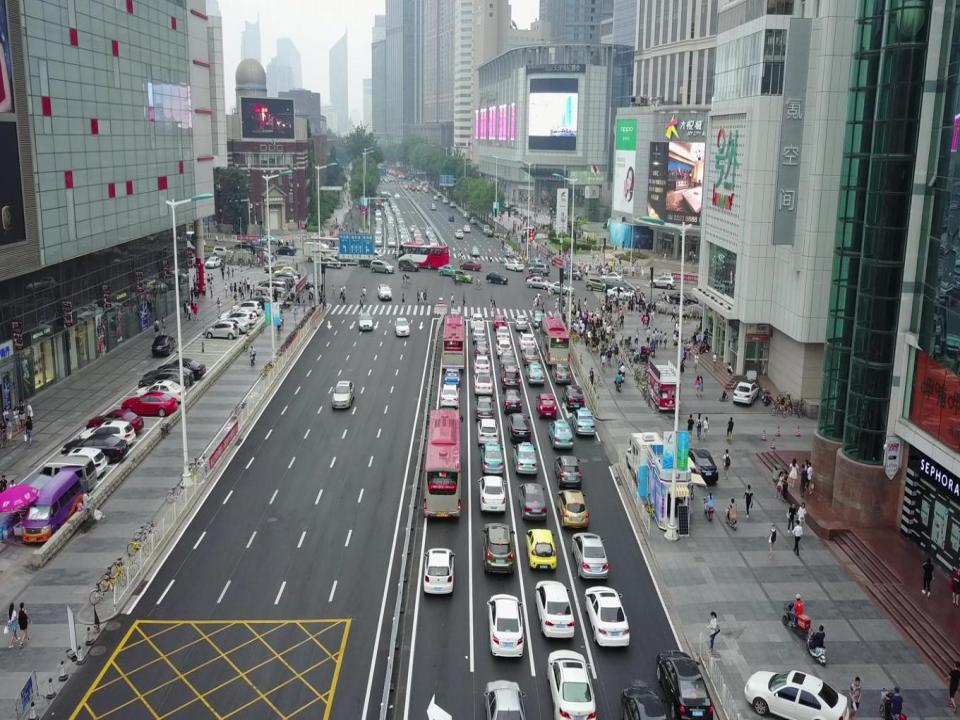bus: (423, 409, 461, 518), (649, 360, 682, 410), (538, 315, 570, 365), (398, 242, 449, 269), (442, 313, 464, 373), (167, 230, 204, 252)
car: (744, 670, 848, 720), (656, 648, 714, 720), (547, 648, 597, 720), (584, 586, 629, 646), (486, 593, 524, 656), (535, 581, 575, 637), (61, 432, 130, 464), (483, 679, 525, 720), (54, 448, 107, 480), (572, 533, 609, 578), (482, 523, 515, 573), (620, 686, 668, 720), (86, 408, 144, 436), (120, 390, 178, 415), (423, 548, 455, 593), (79, 420, 136, 445), (682, 447, 718, 484), (135, 379, 186, 404), (141, 363, 194, 387), (138, 368, 190, 392), (526, 529, 557, 569), (557, 489, 588, 527), (157, 358, 205, 381), (518, 483, 547, 519), (478, 475, 506, 511), (512, 441, 538, 476), (554, 456, 582, 488), (479, 440, 504, 472), (547, 419, 573, 449), (732, 379, 760, 406), (507, 412, 531, 442), (218, 308, 254, 328), (219, 308, 257, 326), (331, 380, 355, 408), (476, 418, 499, 447), (257, 276, 289, 296), (204, 321, 239, 339), (572, 407, 594, 435), (500, 363, 521, 391), (216, 316, 248, 334), (474, 395, 495, 420), (151, 334, 176, 355), (536, 392, 556, 418), (440, 384, 460, 409), (231, 300, 262, 316), (255, 282, 286, 298), (563, 385, 585, 407), (501, 389, 522, 412), (666, 291, 698, 306), (525, 361, 544, 385), (473, 373, 493, 395), (552, 361, 571, 384), (606, 286, 636, 300), (549, 280, 575, 296), (473, 355, 491, 377), (245, 294, 273, 308), (649, 274, 675, 289), (268, 274, 294, 289), (599, 270, 623, 285), (522, 346, 540, 366), (495, 338, 512, 358), (444, 368, 461, 387), (474, 340, 490, 360), (452, 269, 473, 284), (370, 260, 394, 273), (525, 272, 551, 284), (586, 277, 608, 291), (528, 262, 550, 276), (518, 333, 535, 351), (527, 277, 552, 289), (264, 260, 288, 272), (469, 312, 485, 330), (276, 270, 300, 282), (394, 317, 410, 335), (560, 267, 582, 280), (398, 258, 420, 271), (486, 271, 508, 284), (274, 266, 297, 278), (499, 351, 515, 368), (358, 254, 378, 267), (504, 259, 524, 272), (305, 272, 320, 289), (275, 274, 298, 285), (213, 246, 234, 258), (514, 314, 528, 332), (472, 326, 486, 344), (532, 310, 546, 328), (256, 233, 278, 244), (320, 257, 342, 268), (491, 314, 506, 330), (377, 284, 392, 300), (460, 259, 480, 271), (438, 264, 458, 276), (359, 312, 372, 330), (364, 251, 386, 261), (496, 326, 510, 341), (234, 240, 254, 250), (335, 252, 355, 262), (528, 257, 546, 268), (450, 308, 462, 324), (276, 245, 296, 254), (204, 256, 221, 266), (325, 246, 341, 256), (414, 237, 424, 247), (374, 236, 383, 247), (470, 246, 479, 257), (387, 237, 396, 247), (454, 229, 463, 239), (400, 238, 410, 246), (429, 239, 437, 249), (470, 216, 478, 224), (463, 225, 471, 232), (486, 230, 494, 237), (429, 203, 436, 210), (448, 215, 454, 222), (466, 214, 473, 220), (442, 198, 448, 204), (450, 201, 456, 207), (463, 211, 470, 216), (437, 192, 443, 197), (433, 194, 438, 198)
truck: (302, 240, 330, 263)
van: (22, 465, 87, 542), (34, 457, 96, 495), (624, 432, 663, 488), (482, 224, 489, 234)
